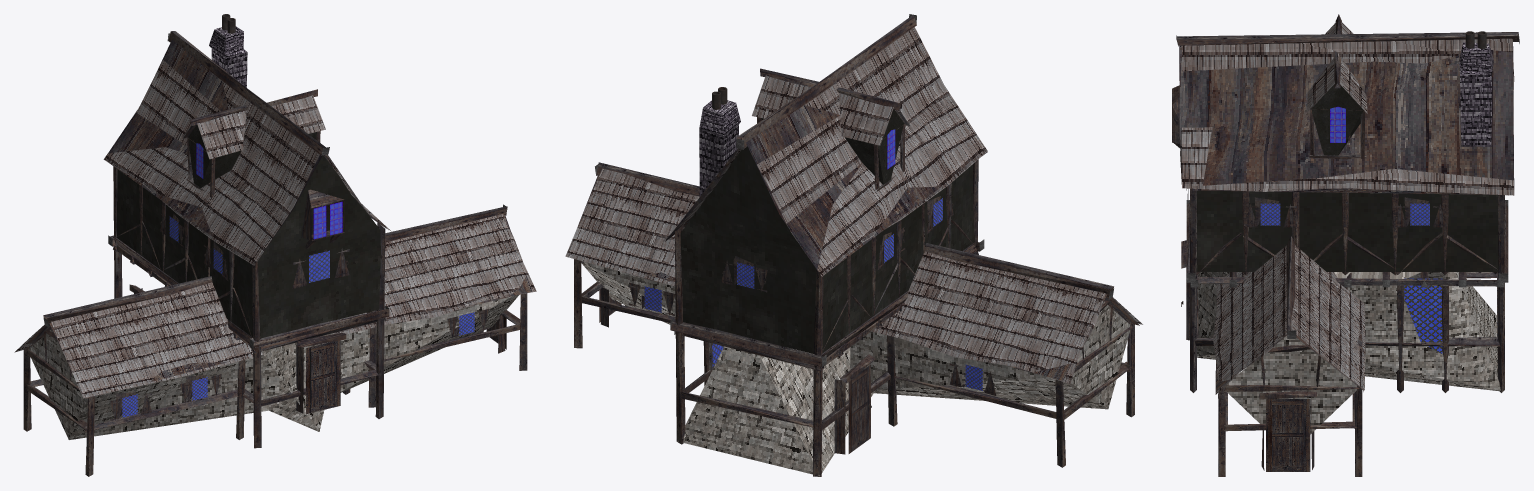
Rendered from oga_house_4.glb.
3 views of the same model, side by side, from view 1: azimuth 30°, elevation 25°; view 2: azimuth 150°, elevation 25°; view 3: azimuth 270°, elevation 25° (orthographic). The views are drawn at different scales.
Visible parts, largest first — view 1: oga_house_4; view 2: oga_house_4; view 3: oga_house_4.
Boxes of the visible parts, x1,y1,x2,y2 form: oga_house_4: (14, 14, 536, 476); oga_house_4: (565, 14, 1142, 476); oga_house_4: (1172, 14, 1519, 476).
Size of the model in its own units: 15.1 by 9.77 by 8.91.
Materials: 10 (10 with a texture image).
